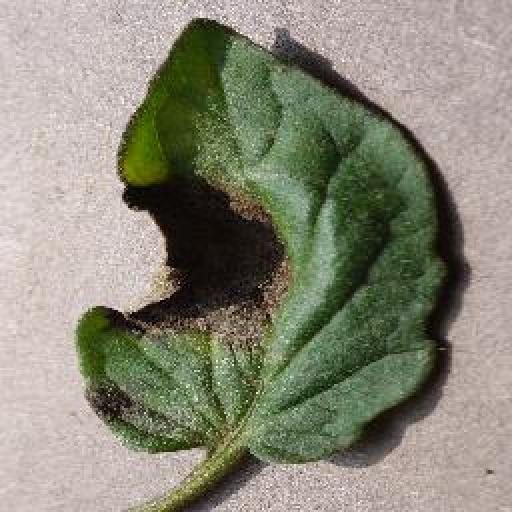disease_tomato: (75, 14, 452, 466)
